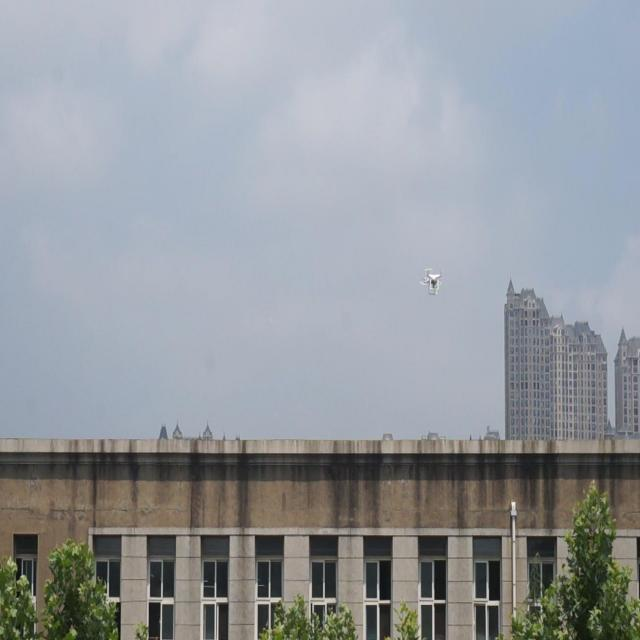UAV: (419, 269, 443, 295)
